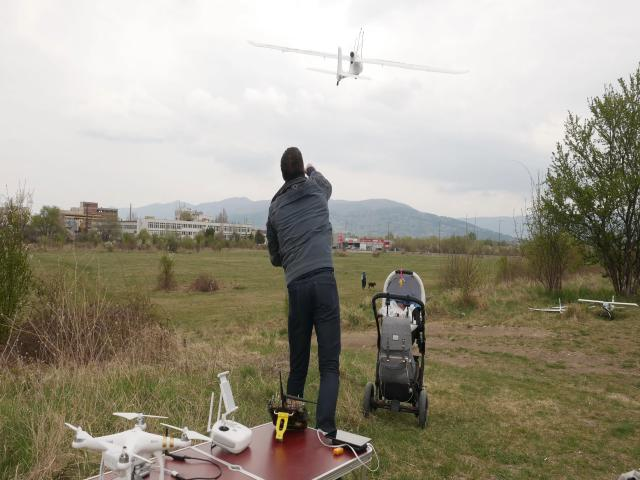plane: (244, 31, 466, 85)
